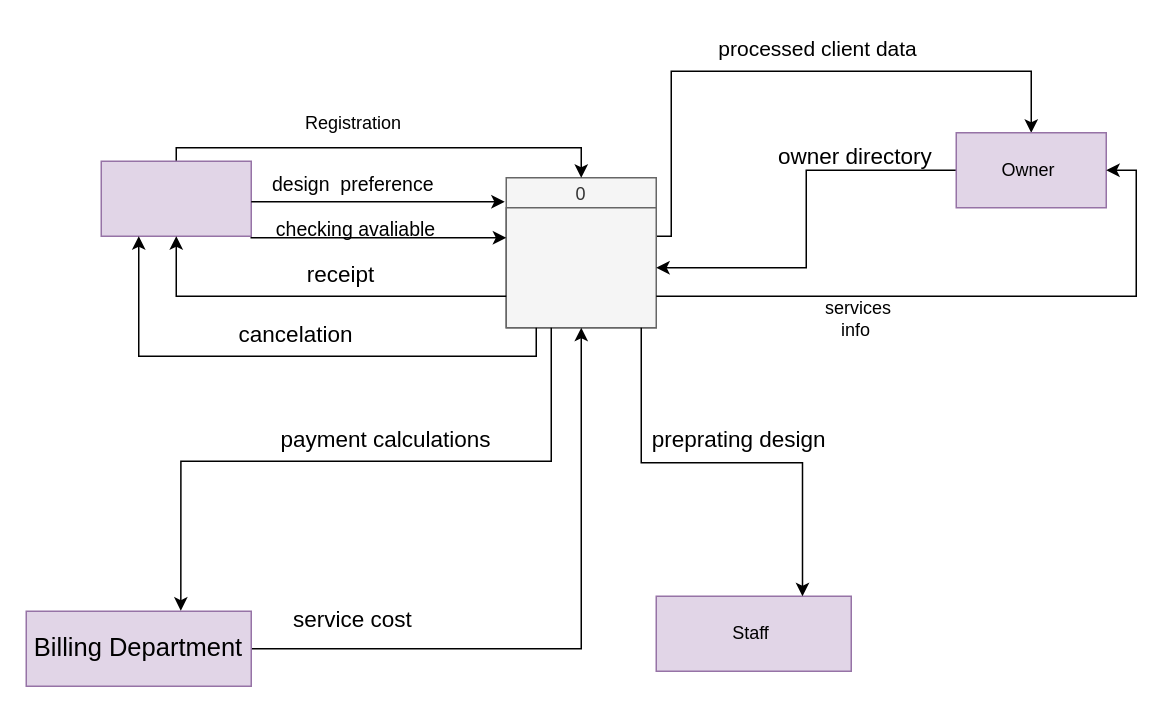
Image size: 1175x713. Some labels were removed from this diagram. Here are the shapes that lost their labels. From the top down, the centre of each, then its label:
At point (175, 198): "Client".
At point (580, 267): "Online Wedding planners company System".
